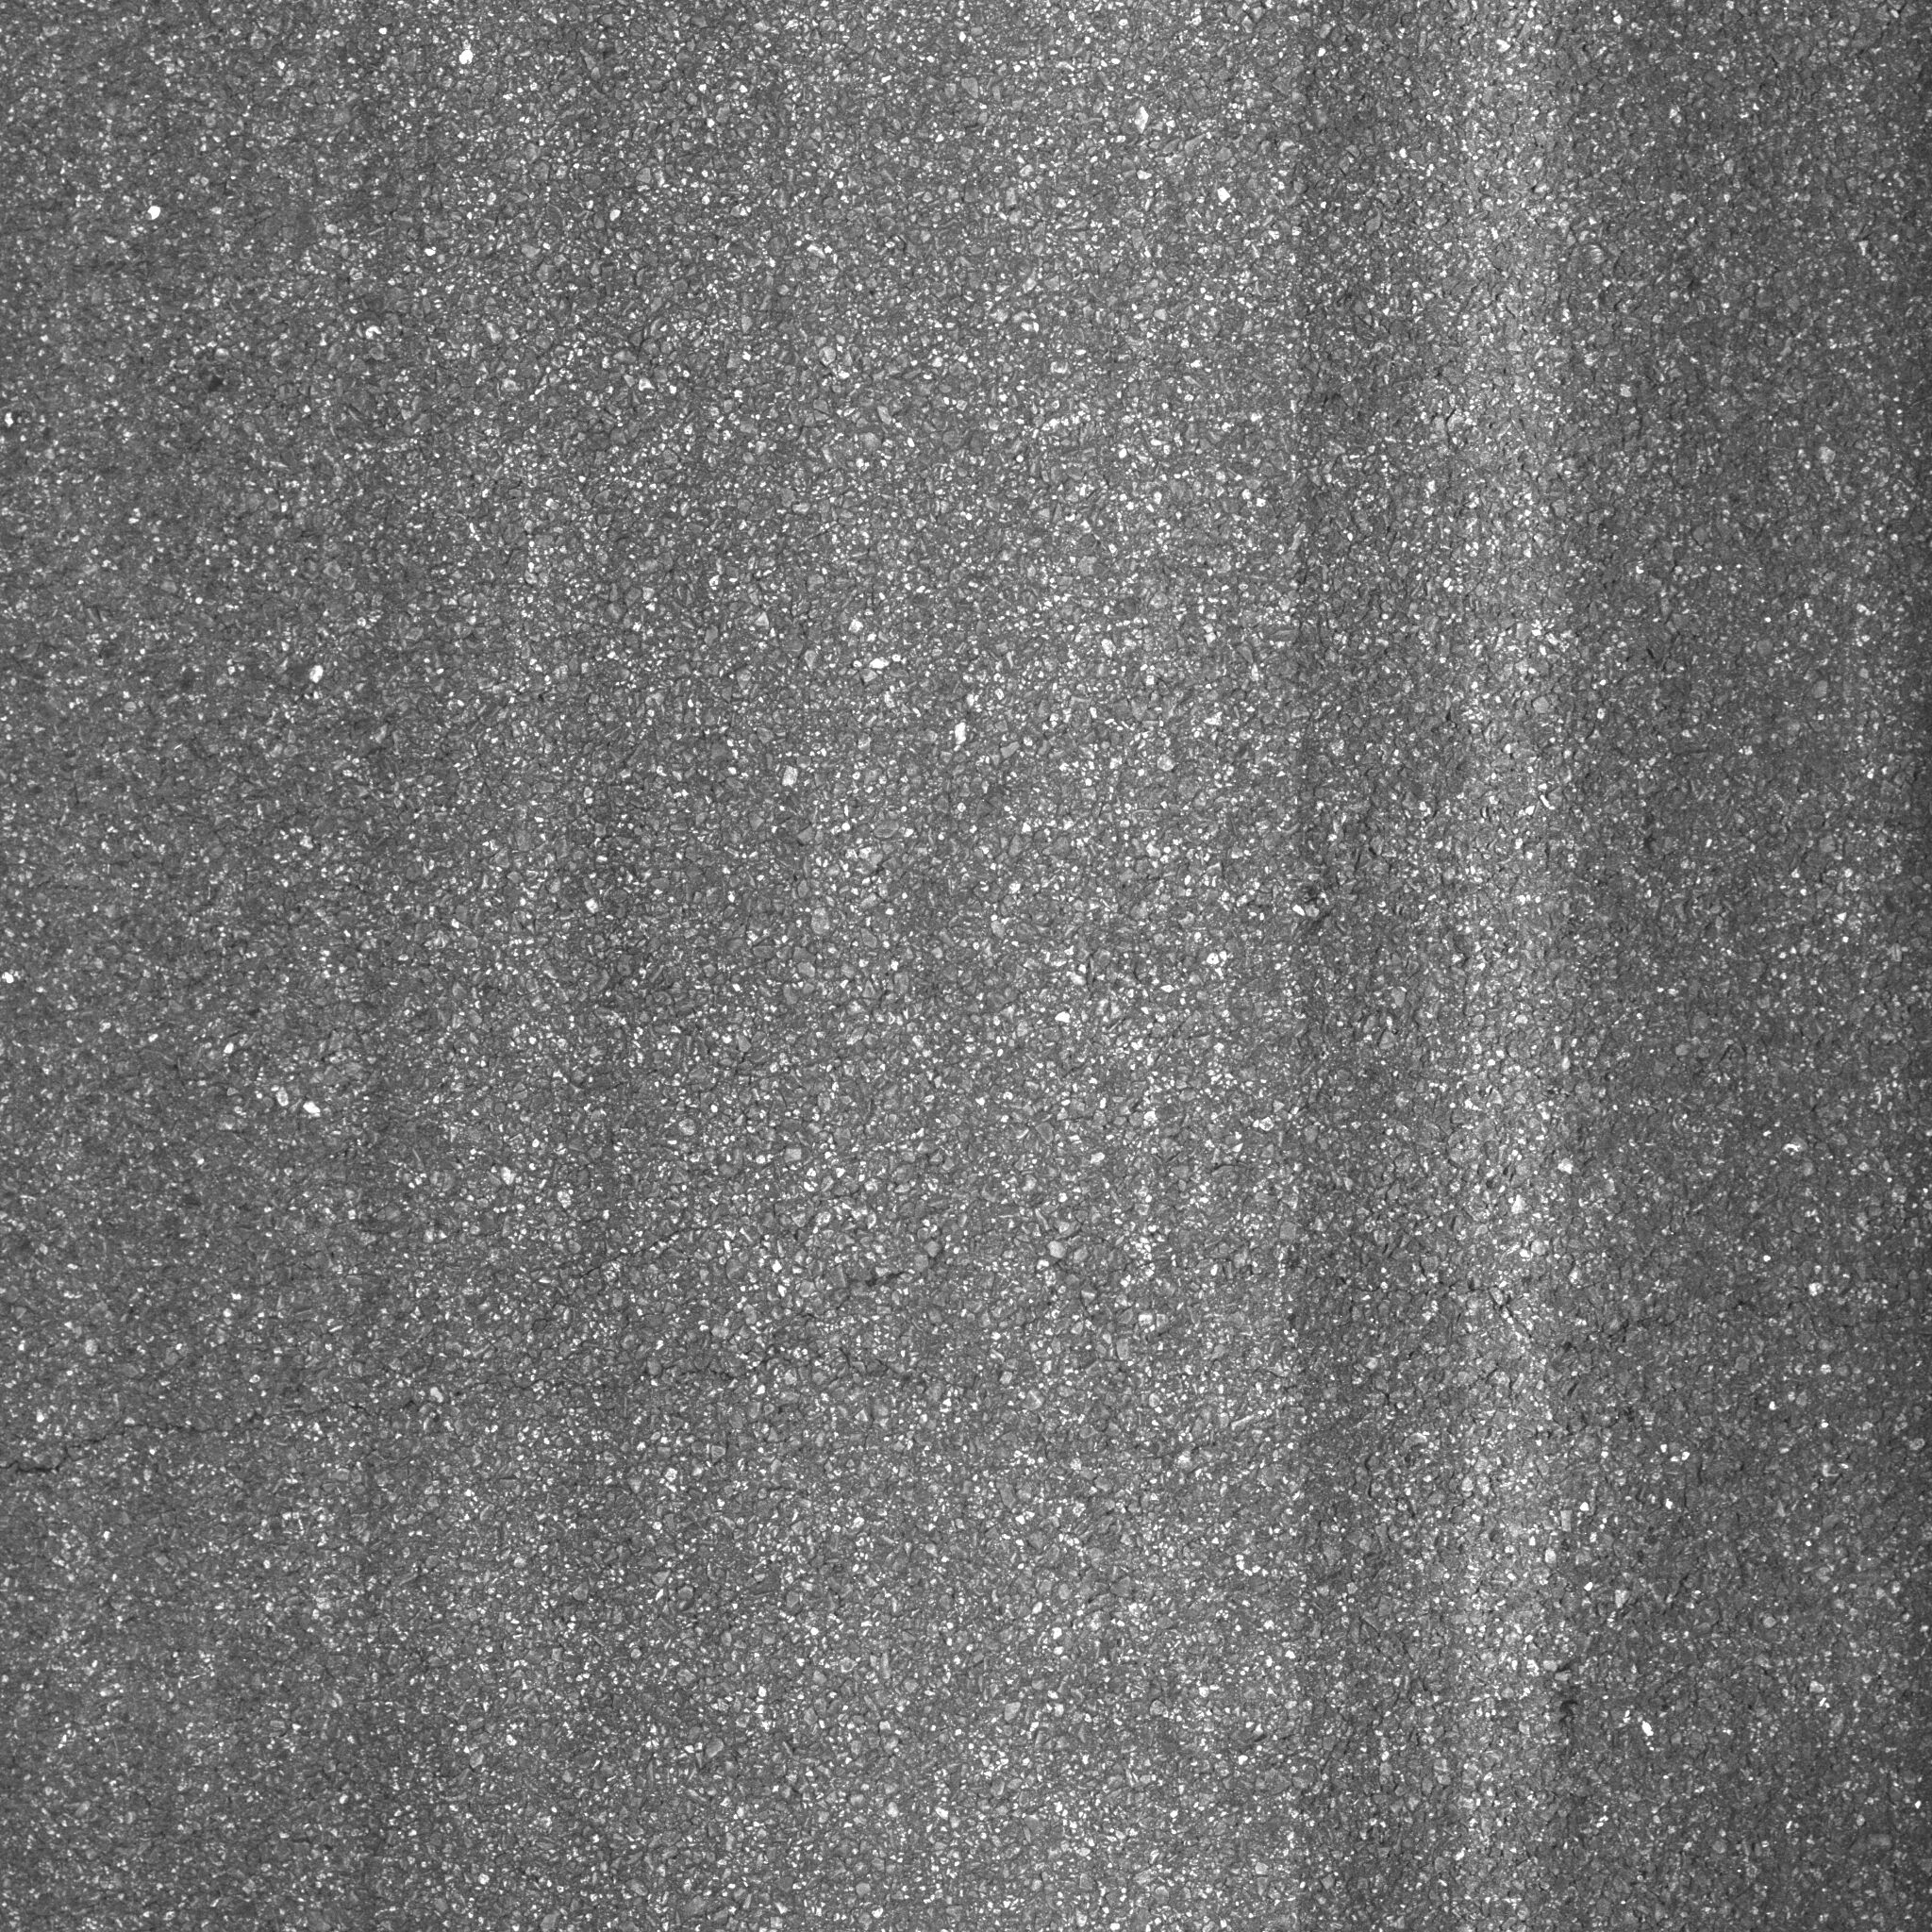transeverse: (23, 1323, 984, 1493)
